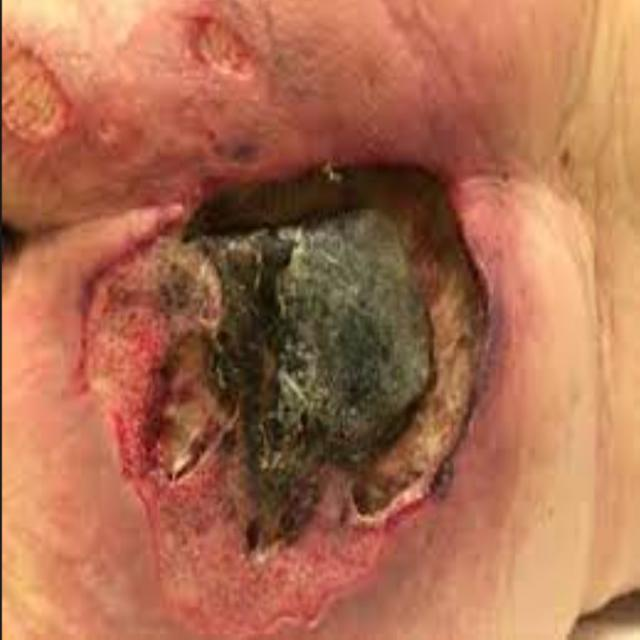Unstageable: (85, 164, 484, 630)
stage-3: (4, 44, 68, 145)
